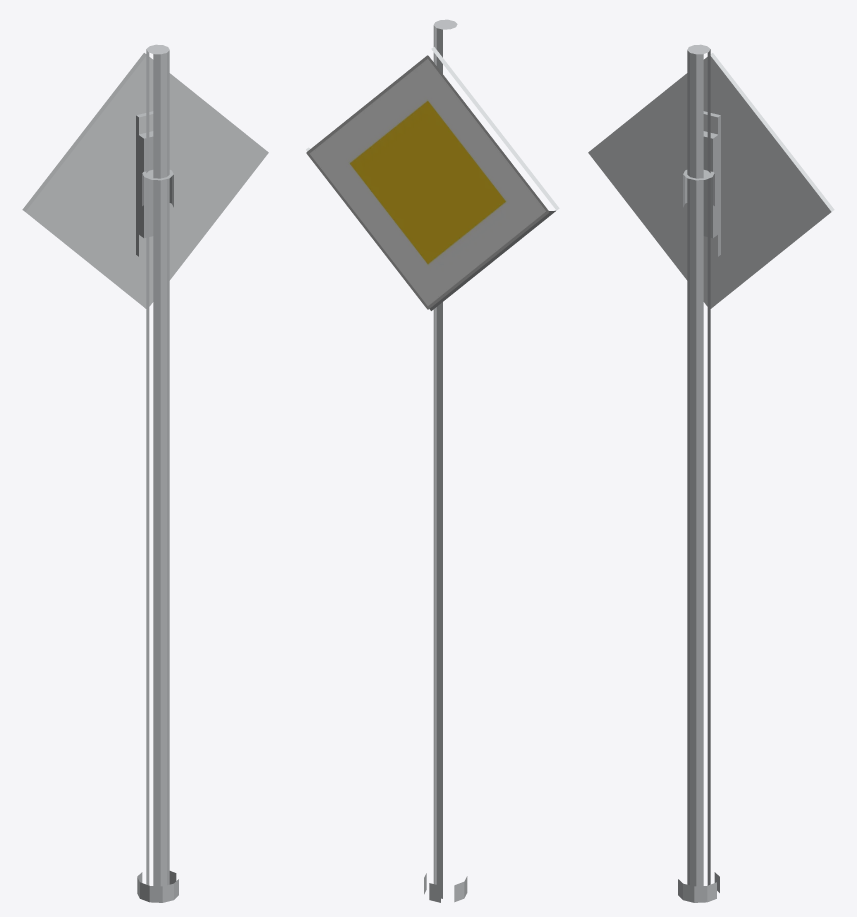
The model's file is sign_priority_road.glb.
The picture shows the model from 3 angles, left to right: view 1: azimuth 30°, elevation 25°; view 2: azimuth 150°, elevation 25°; view 3: azimuth 330°, elevation 25°; orthographic projection. The views are drawn at different scales.
Visible parts, largest first — view 1: sign_priority_road; view 2: sign_priority_road; view 3: sign_priority_road.
Boxes of the visible parts, box(x1,y1,x2,y2) form: sign_priority_road: box(22, 44, 268, 902); sign_priority_road: box(306, 19, 559, 902); sign_priority_road: box(588, 44, 834, 902).
Bounding box in the file's own units: 0.8 × 2.54 × 0.1488.
Materials: 5 (1 with a texture image).
